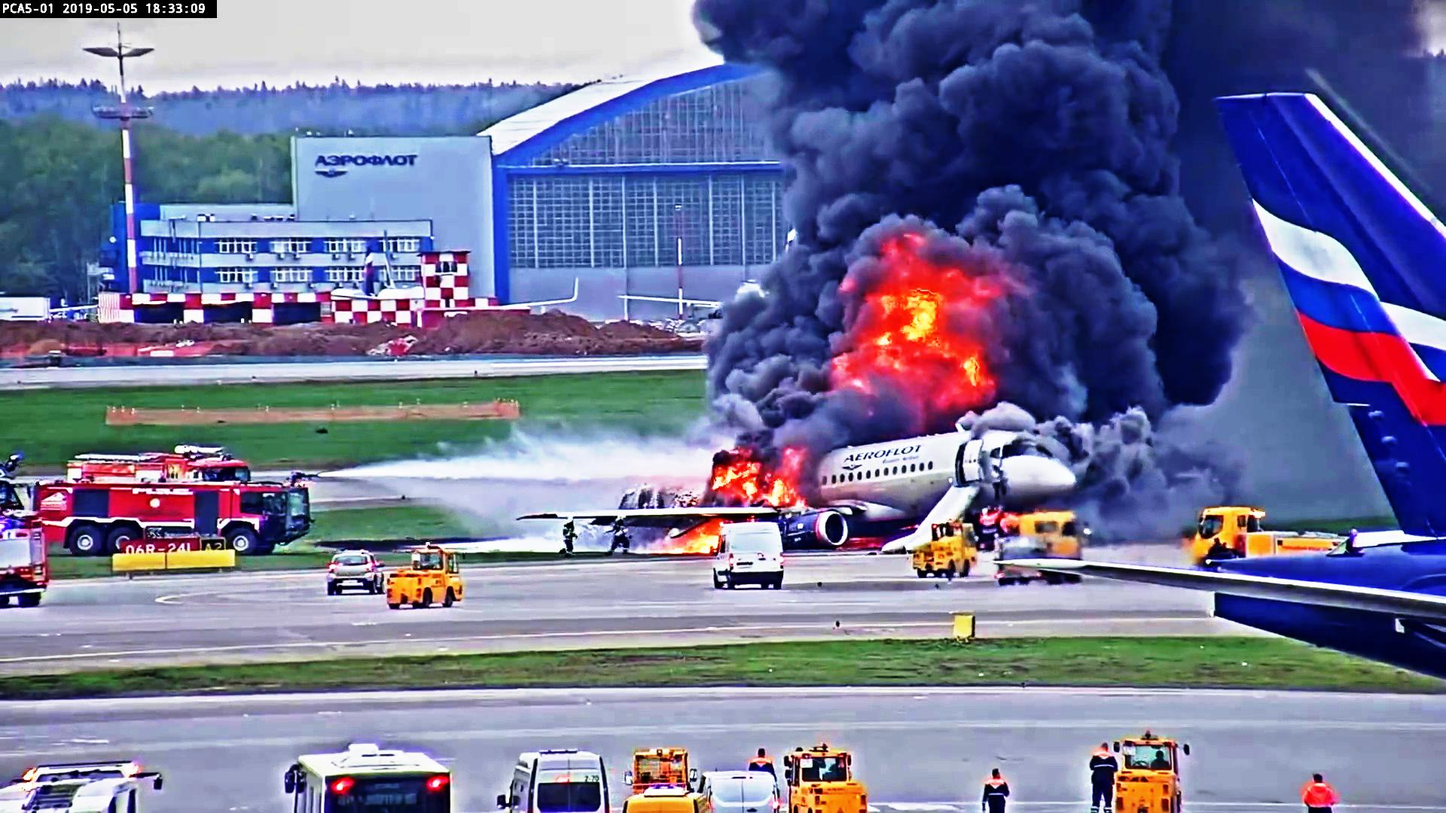fire: (870, 262, 953, 359), (731, 449, 813, 503), (674, 517, 715, 557)
smoke: (772, 0, 1203, 211), (1002, 160, 1258, 425), (718, 224, 856, 441)
